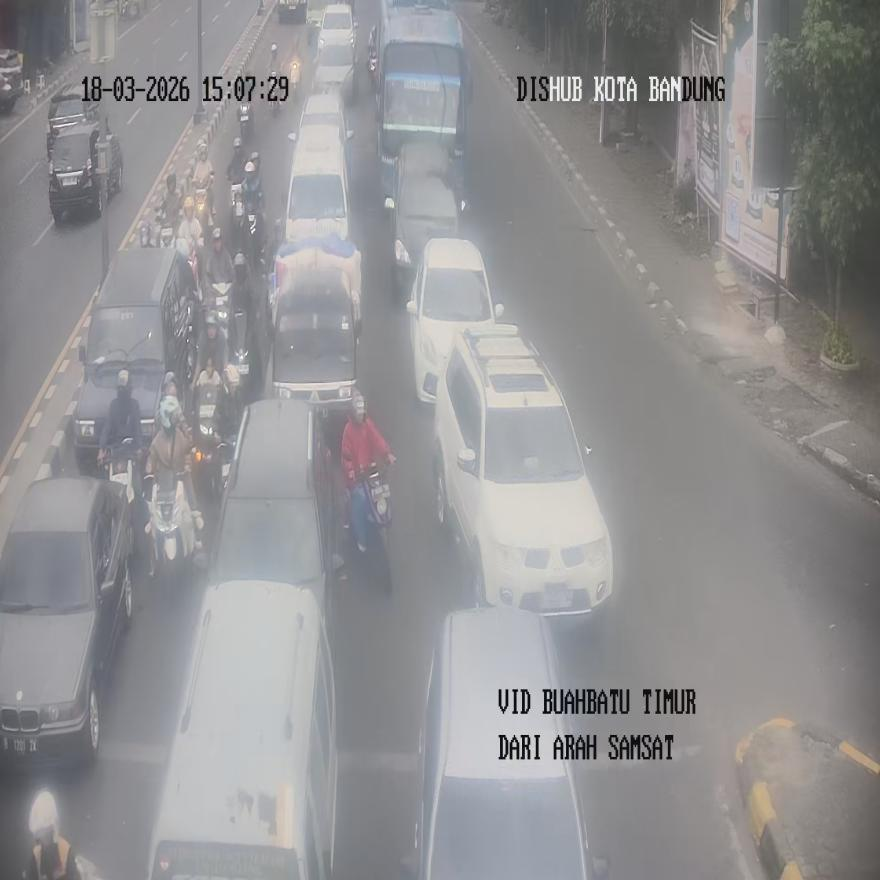Mobil: (146, 580, 339, 879), (432, 320, 613, 617), (416, 606, 608, 878), (0, 476, 132, 766), (72, 246, 196, 469), (407, 238, 504, 402), (385, 141, 466, 298)
